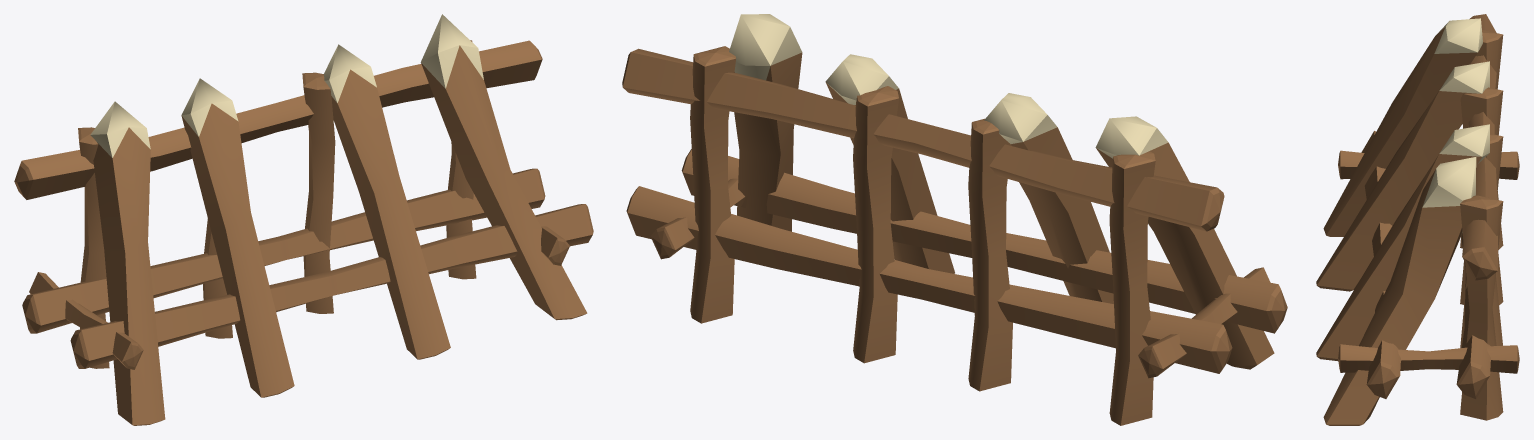
Rendered from barricade_01.FBX.
The picture shows the model from 3 angles, left to right: view 1: azimuth 30°, elevation 25°; view 2: azimuth 150°, elevation 25°; view 3: azimuth 270°, elevation 25°; orthographic projection. The views are drawn at different scales.
Visible parts, largest first — view 1: baricade_01; view 2: baricade_01; view 3: baricade_01.
Part boxes in pixels (x1=…): baricade_01: x1=14, y1=14, x2=593, y2=425; baricade_01: x1=622, y1=14, x2=1287, y2=425; baricade_01: x1=1316, y1=14, x2=1519, y2=425.
Size of the model in its own units: 101 by 49.45 by 36.59.
